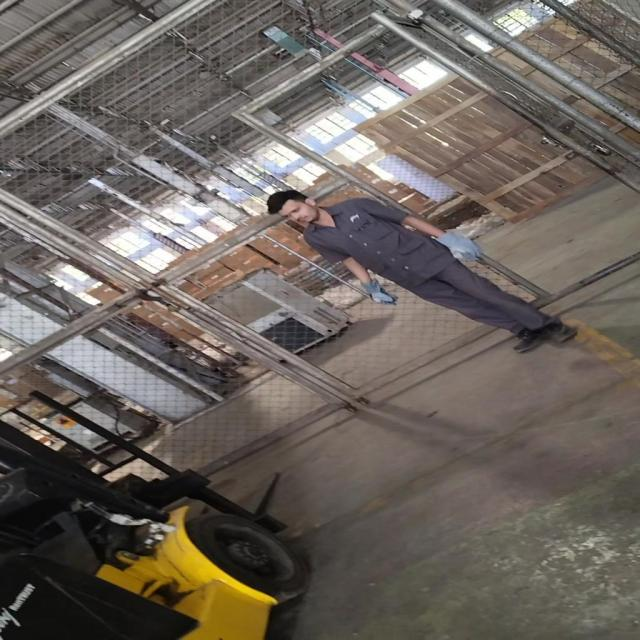Gloves-Detection: (434, 226, 479, 263), (362, 277, 396, 306)
